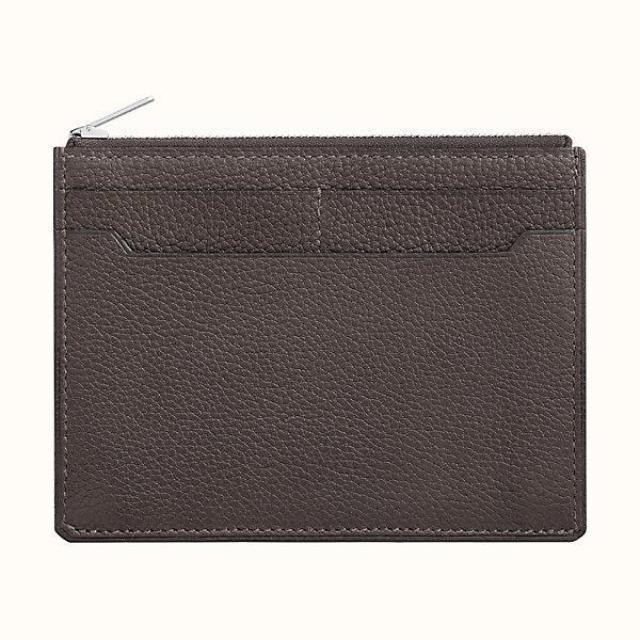wallet: (45, 119, 595, 549)
